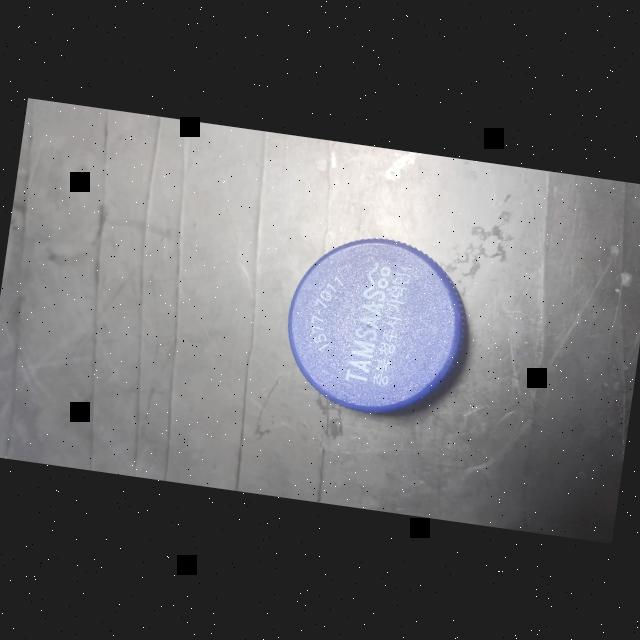plastic_bottle_cap: (272, 218, 482, 428)
